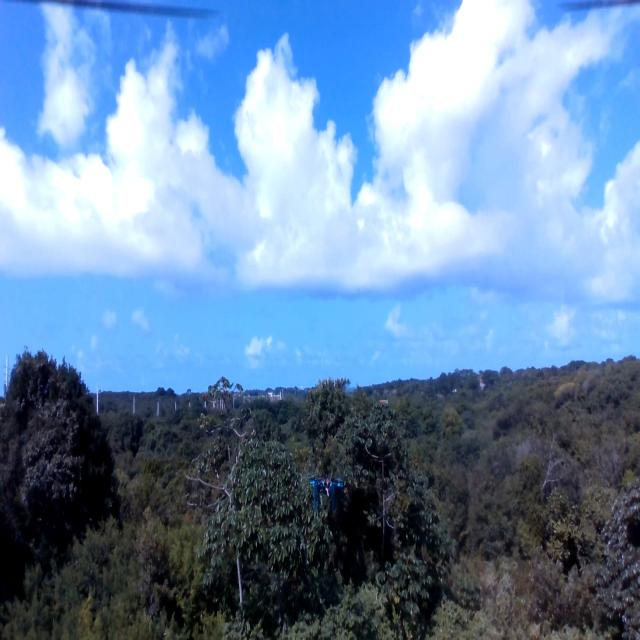-uav-: (300, 461, 351, 523)
